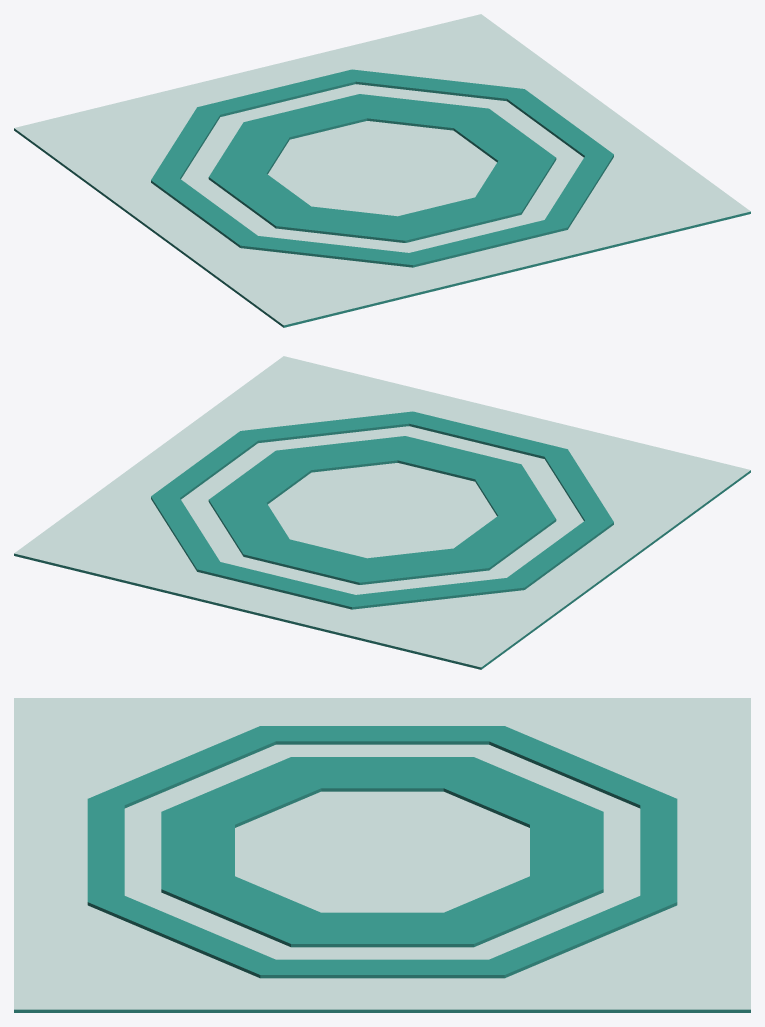
File: Prop_Rug_Sun.fbx
The picture shows the model from 3 angles, top to bottom: view 1: azimuth 30°, elevation 25°; view 2: azimuth 150°, elevation 25°; view 3: azimuth 270°, elevation 25°; orthographic projection. The views are drawn at different scales.
Visible parts, largest first — view 1: object1; view 2: object1; view 3: object1.
Boxes of the visible parts, x1,y1,x2,y2 form: object1: (14, 14, 750, 327); object1: (14, 356, 750, 669); object1: (14, 698, 750, 1012).
Size of the model in its own units: 1 by 0.01 by 1.
